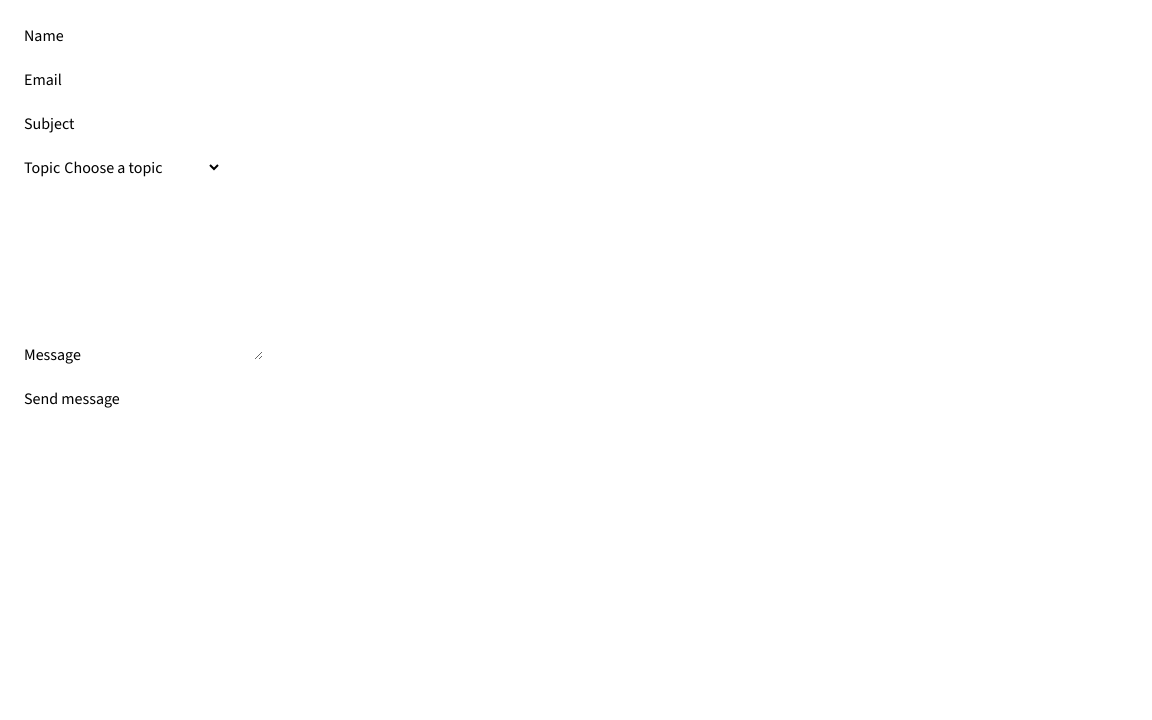
Test: ContactForm › shows validation errors for empty submit
This screenshot has width=1152, height=720.
Click the button "Send message".
click(72, 399)  # box [24, 387, 120, 411]
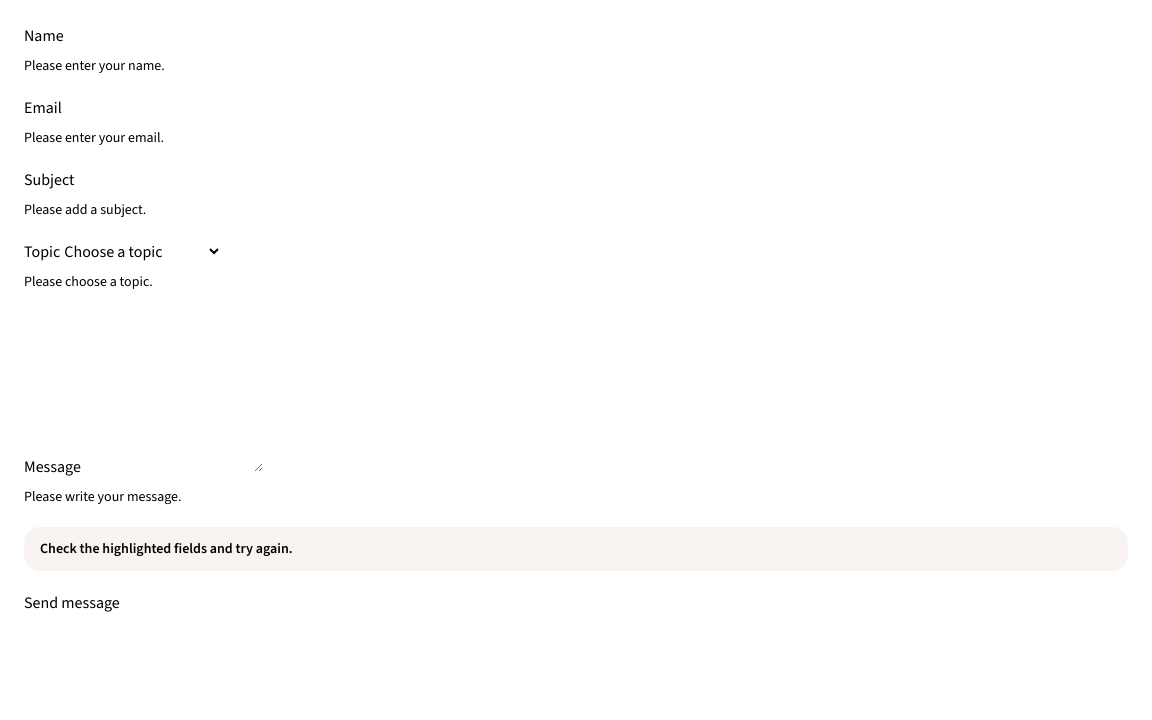
Expected: the text "Please enter your name." is shown, [24, 56, 165, 75]
Expected: the text "Please enter your email." is shown, [24, 128, 164, 147]
Expected: the text "Please add a subject." is shown, [24, 200, 146, 219]
